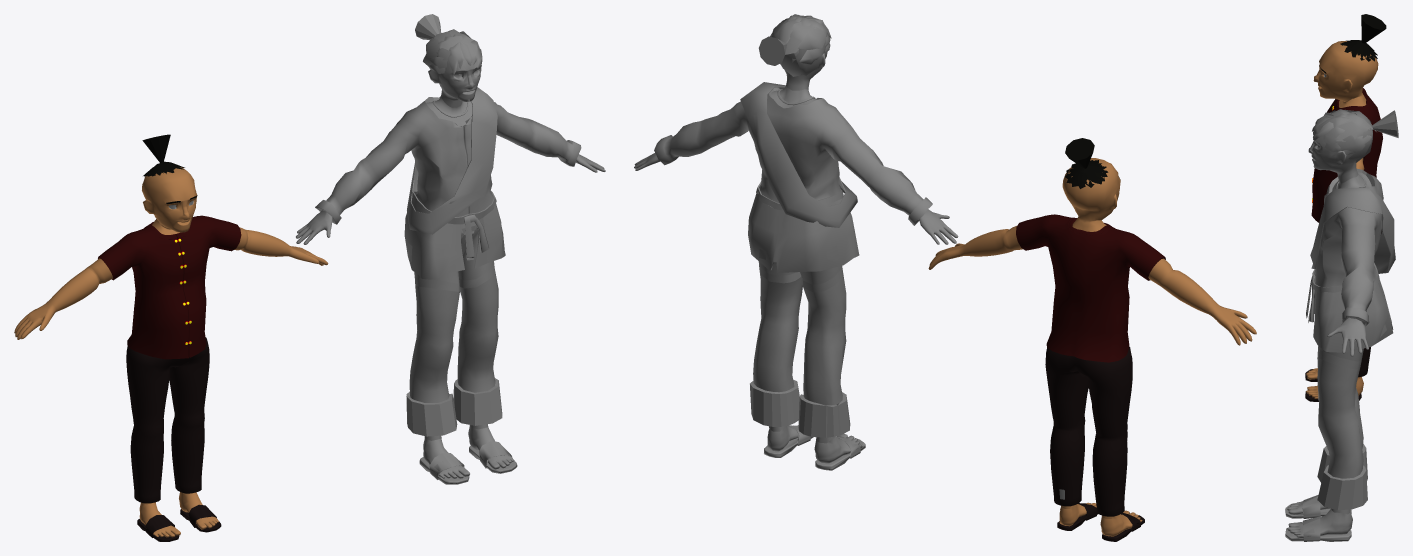
File: Brothers.obj
3 renders of one model, left to right at view 1: azimuth 30°, elevation 25°; view 2: azimuth 150°, elevation 25°; view 3: azimuth 270°, elevation 25°, orthographic. The views are drawn at different scales.
Visible parts, largest first — view 1: group4 pasted__polySurface8, polySurface5, group4 pasted__Sash, group4 pasted__Hair, pasted__Sandals group4, polySurface89, polySurface92, polySurface62; view 2: group4 pasted__polySurface8, polySurface5, group4 pasted__Sash, group4 pasted__Hair, polySurface62, polySurface89, pasted__Sandals group4, polySurface92; view 3: group4 pasted__polySurface8, polySurface5, group4 pasted__Sash, group4 pasted__Hair, pasted__Sandals group4, polySurface62, polySurface89, group4 pasted__polySurface11 pasted__polySurface9 pasted__polySu, group4 pasted__polySurface9 pasted__polySurface6 pasted__Generic, polySurface92.
Part boxes in pixels (box(x1,y1,x2,y2)): group4 pasted__polySurface8: box(296, 48, 605, 478); polySurface5: box(14, 167, 328, 503); group4 pasted__Sash: box(407, 87, 497, 234); group4 pasted__Hair: box(415, 14, 482, 74); pasted__Sandals group4: box(419, 441, 517, 484); polySurface89: box(139, 492, 218, 537); polySurface92: box(137, 504, 221, 541); polySurface62: box(142, 134, 184, 176); group4 pasted__polySurface8: box(634, 23, 958, 463); polySurface5: box(928, 158, 1256, 516); group4 pasted__Sash: box(740, 82, 857, 227); group4 pasted__Hair: box(758, 14, 831, 76); polySurface62: box(1065, 138, 1108, 188); polySurface89: box(1059, 502, 1142, 536); pasted__Sandals group4: box(764, 425, 865, 470); polySurface92: box(1057, 503, 1144, 541); group4 pasted__polySurface8: box(1287, 113, 1393, 537); polySurface5: box(1311, 41, 1382, 377); group4 pasted__Sash: box(1310, 187, 1395, 273); group4 pasted__Hair: box(1312, 109, 1398, 162); pasted__Sandals group4: box(1285, 495, 1351, 541); polySurface62: box(1340, 14, 1386, 61); polySurface89: box(1306, 368, 1363, 398); group4 pasted__polySurface11 pasted__polySurface9 pasted__polySu: box(1312, 262, 1379, 292); group4 pasted__polySurface9 pasted__polySurface6 pasted__Generic: box(1306, 275, 1315, 322); polySurface92: box(1305, 369, 1361, 401).
Bounding box in the file's own units: 46.31 × 31.84 × 7.9.
